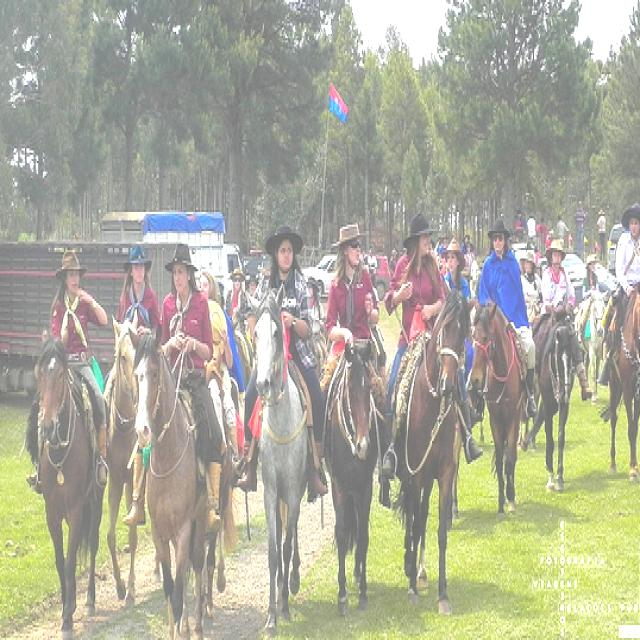Vehicle: (0, 240, 139, 402), (144, 210, 246, 316)
